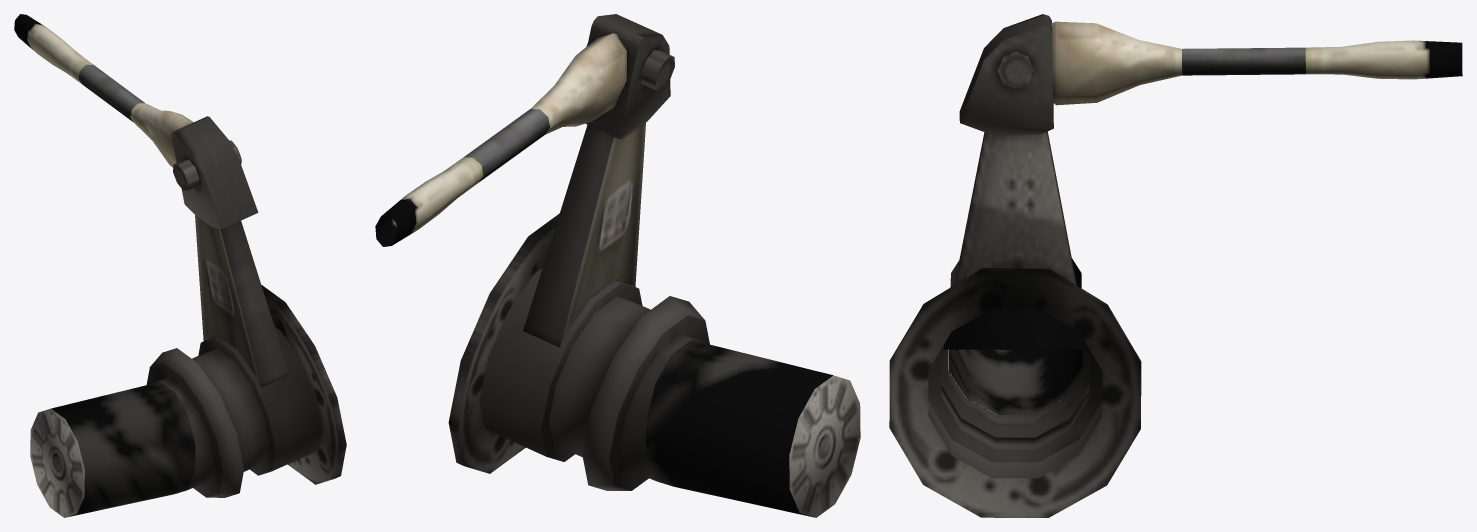
Rendered from right_axis_jointfix.dae.
The picture shows the model from 3 angles, left to right: view 1: azimuth 30°, elevation 25°; view 2: azimuth 150°, elevation 25°; view 3: azimuth 270°, elevation 25°; orthographic projection. The views are drawn at different scales.
Visible parts, largest first — view 1: suspension_axel_R, suspension_rod_R; view 2: suspension_axel_R, suspension_rod_R; view 3: suspension_axel_R, suspension_rod_R.
Part boxes in pixels (x1,y1,x2,y2): suspension_axel_R: (30, 215, 346, 517); suspension_rod_R: (14, 14, 258, 228); suspension_axel_R: (448, 123, 860, 517); suspension_rod_R: (375, 14, 674, 246); suspension_axel_R: (889, 131, 1141, 517); suspension_rod_R: (959, 14, 1462, 135).
Bounding box in the file's own units: 0.2802 × 0.4628 × 0.3948.
Materials: 1 (1 with a texture image).
